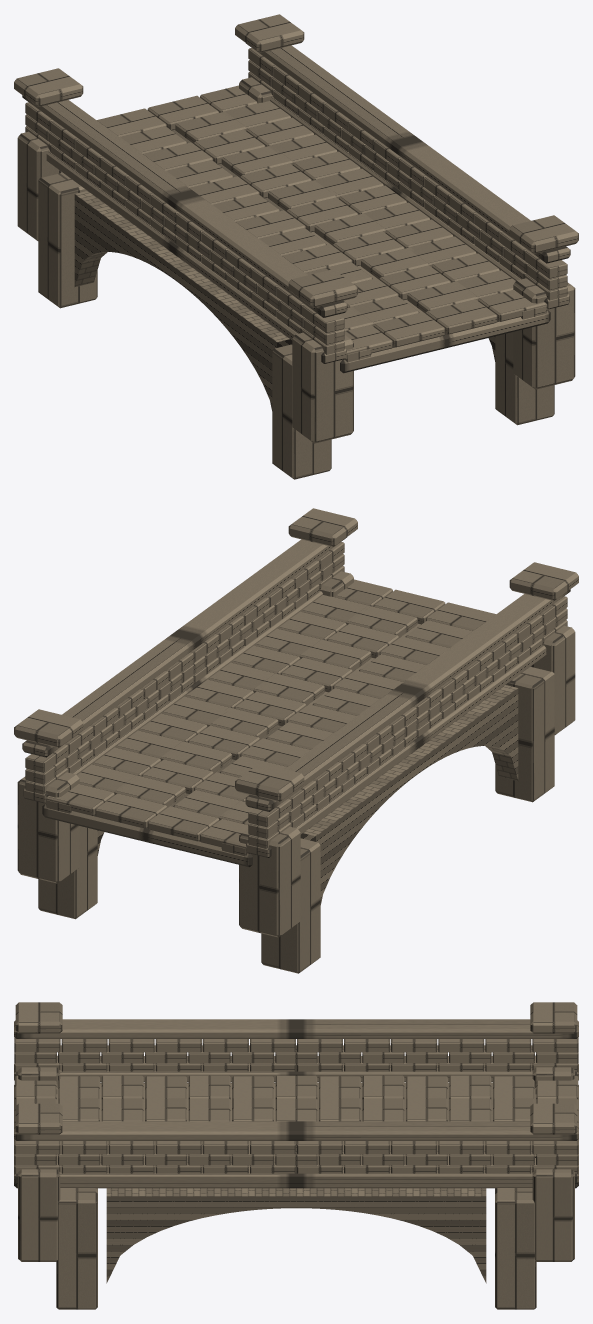
Rendered from BridgeLevelAccessV1.glb.
3 views of the same model, one above another, from view 1: azimuth 30°, elevation 25°; view 2: azimuth 150°, elevation 25°; view 3: azimuth 270°, elevation 25° (orthographic). The views are drawn at different scales.
Visible parts, largest first — view 1: VALORIA_PAVING, VALORIA_PARAPETS, VALORIA_COPING, VALORIA_END_PIERS, VALORIA_ARCH_FOOTINGS, VALORIA_ARCH_SPANDRELS, VALORIA_END_CAPS, VALORIA_KERBS, VALORIA_DECK_CORE; view 2: VALORIA_PAVING, VALORIA_PARAPETS, VALORIA_COPING, VALORIA_END_PIERS, VALORIA_ARCH_FOOTINGS, VALORIA_ARCH_SPANDRELS, VALORIA_END_CAPS, VALORIA_KERBS, VALORIA_DECK_CORE; view 3: VALORIA_PARAPETS, VALORIA_PAVING, VALORIA_COPING, VALORIA_ARCH_SPANDRELS, VALORIA_ARCH_FOOTINGS, VALORIA_END_PIERS, VALORIA_KERBS, VALORIA_END_CAPS, VALORIA_DECK_CORE.
Part boxes in pixels (box(x1,y1,x2,y2)): VALORIA_PAVING: box(96, 85, 549, 359); VALORIA_PARAPETS: box(25, 48, 567, 354); VALORIA_COPING: box(22, 43, 570, 317); VALORIA_END_PIERS: box(17, 77, 575, 443); VALORIA_ARCH_FOOTINGS: box(38, 172, 554, 479); VALORIA_ARCH_SPANDRELS: box(74, 191, 495, 410); VALORIA_END_CAPS: box(14, 14, 578, 307); VALORIA_KERBS: box(46, 97, 569, 363); VALORIA_DECK_CORE: box(172, 130, 550, 373); VALORIA_PAVING: box(43, 579, 496, 853); VALORIA_PARAPETS: box(25, 542, 567, 848); VALORIA_COPING: box(22, 537, 570, 811); VALORIA_END_PIERS: box(17, 571, 575, 937); VALORIA_ARCH_FOOTINGS: box(38, 666, 554, 973); VALORIA_ARCH_SPANDRELS: box(97, 685, 518, 904); VALORIA_END_CAPS: box(14, 508, 578, 801); VALORIA_KERBS: box(23, 591, 546, 857); VALORIA_DECK_CORE: box(42, 624, 420, 867); VALORIA_PARAPETS: box(14, 1037, 578, 1174); VALORIA_PAVING: box(14, 1075, 578, 1147); VALORIA_COPING: box(14, 1019, 578, 1140); VALORIA_ARCH_SPANDRELS: box(106, 1188, 486, 1283); VALORIA_ARCH_FOOTINGS: box(56, 1188, 536, 1309); VALORIA_END_PIERS: box(18, 1055, 574, 1261); VALORIA_KERBS: box(14, 1063, 578, 1183); VALORIA_END_CAPS: box(15, 1002, 577, 1134); VALORIA_DECK_CORE: box(14, 1082, 578, 1188).
Size of the model in its own units: 5.3 by 3.78 by 10.3.
Materials: 1 (1 with a texture image).
